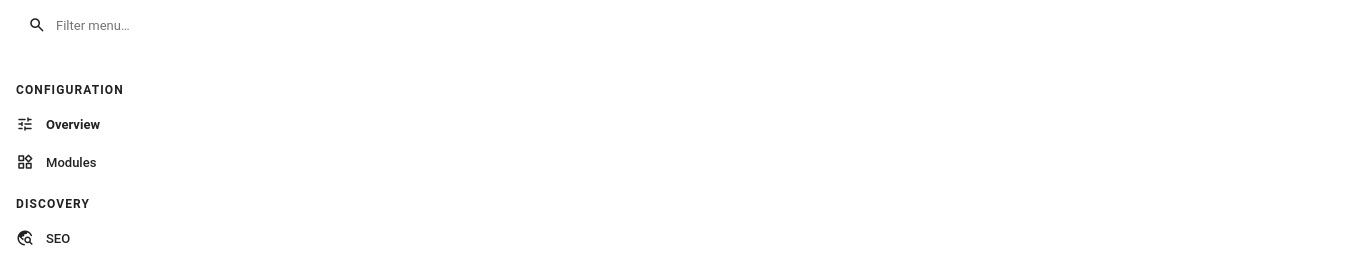
Test: SettingsSidebar › shows an empty state when nothing matches the filter
This screenshot has width=1351, height=263.
Type "zzz" into the search field with test id "site-settings.sidebar.filter" at (694, 25), box [54,16,1334,34]
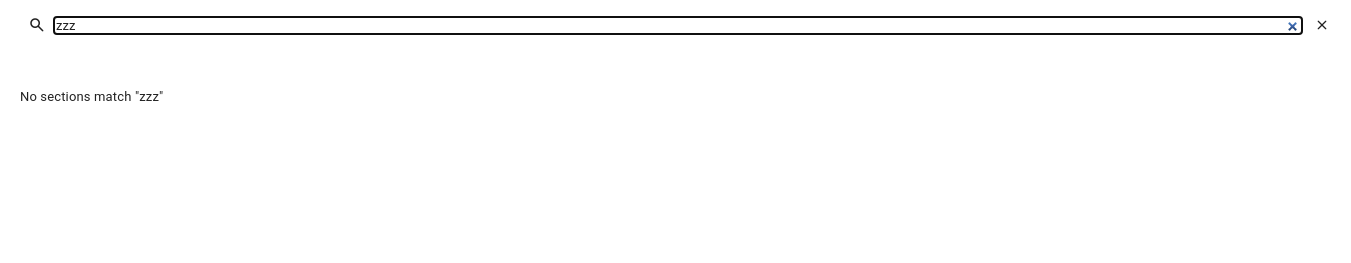
Now the text "No sections match \"zzz\"" is shown, box [20,89,163,104]
